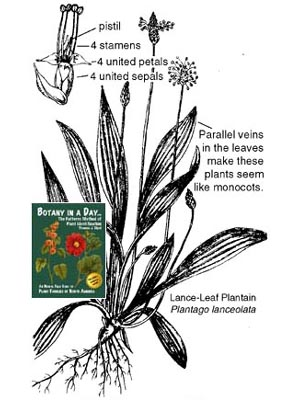buckhorn plantain: (31, 8, 263, 352)
